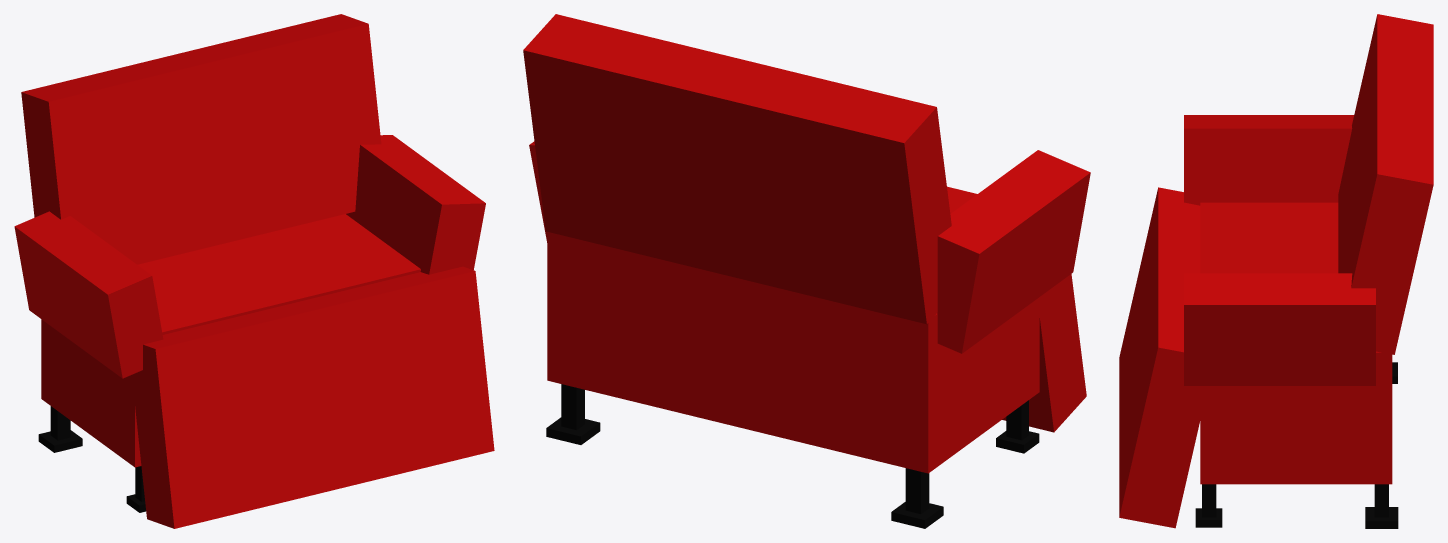
The model's file is Диван.obj.
3 views of the same model, side by side, from view 1: azimuth 30°, elevation 25°; view 2: azimuth 150°, elevation 25°; view 3: azimuth 270°, elevation 25° (orthographic). The views are drawn at different scales.
Parts seen in each view (by area): view 1: Cube.004_Cube.010, Cube.001_Cube.007, Cube_Cube.006, Cube.002_Cube.008, Cube.003_Cube.009, Cube.010_Cube.016; view 2: Cube.001_Cube.007, Cube_Cube.006, Cube.002_Cube.008, Cube.004_Cube.010, Cube.007_Cube.013, Cube.006_Cube.012, Cube.011_Cube.017, Cube.010_Cube.016, Cube.008_Cube.014; view 3: Cube_Cube.006, Cube.001_Cube.007, Cube.003_Cube.009, Cube.004_Cube.010, Cube.002_Cube.008, Cube.011_Cube.017, Cube.005_Cube.011, Cube.006_Cube.012, Cube.012_Cube.018.
Boxes of the visible parts, x1=… form: Cube.004_Cube.010: x1=135, y1=266, x2=494, y2=528; Cube.001_Cube.007: x1=21, y1=14, x2=381, y2=264; Cube_Cube.006: x1=41, y1=214, x2=420, y2=467; Cube.002_Cube.008: x1=14, y1=211, x2=163, y2=378; Cube.003_Cube.009: x1=346, y1=135, x2=485, y2=274; Cube.010_Cube.016: x1=38, y1=430, x2=82, y2=452; Cube.001_Cube.007: x1=523, y1=14, x2=951, y2=324; Cube_Cube.006: x1=547, y1=232, x2=1039, y2=473; Cube.002_Cube.008: x1=937, y1=150, x2=1090, y2=353; Cube.004_Cube.010: x1=947, y1=186, x2=1086, y2=432; Cube.007_Cube.013: x1=905, y1=468, x2=929, y2=513; Cube.006_Cube.012: x1=561, y1=384, x2=584, y2=430; Cube.011_Cube.017: x1=546, y1=417, x2=600, y2=444; Cube.010_Cube.016: x1=891, y1=502, x2=943, y2=528; Cube.008_Cube.014: x1=1006, y1=400, x2=1028, y2=440; Cube_Cube.006: x1=1200, y1=202, x2=1392, y2=484; Cube.001_Cube.007: x1=1338, y1=14, x2=1433, y2=354; Cube.003_Cube.009: x1=1184, y1=273, x2=1375, y2=385; Cube.004_Cube.010: x1=1119, y1=187, x2=1206, y2=528; Cube.002_Cube.008: x1=1184, y1=115, x2=1353, y2=205; Cube.011_Cube.017: x1=1365, y1=507, x2=1398, y2=528; Cube.005_Cube.011: x1=1202, y1=484, x2=1216, y2=517; Cube.006_Cube.012: x1=1374, y1=484, x2=1388, y2=517; Cube.012_Cube.018: x1=1195, y1=508, x2=1222, y2=527.
Bounding box in the file's own units: 4.67 × 4.09 × 3.28.
